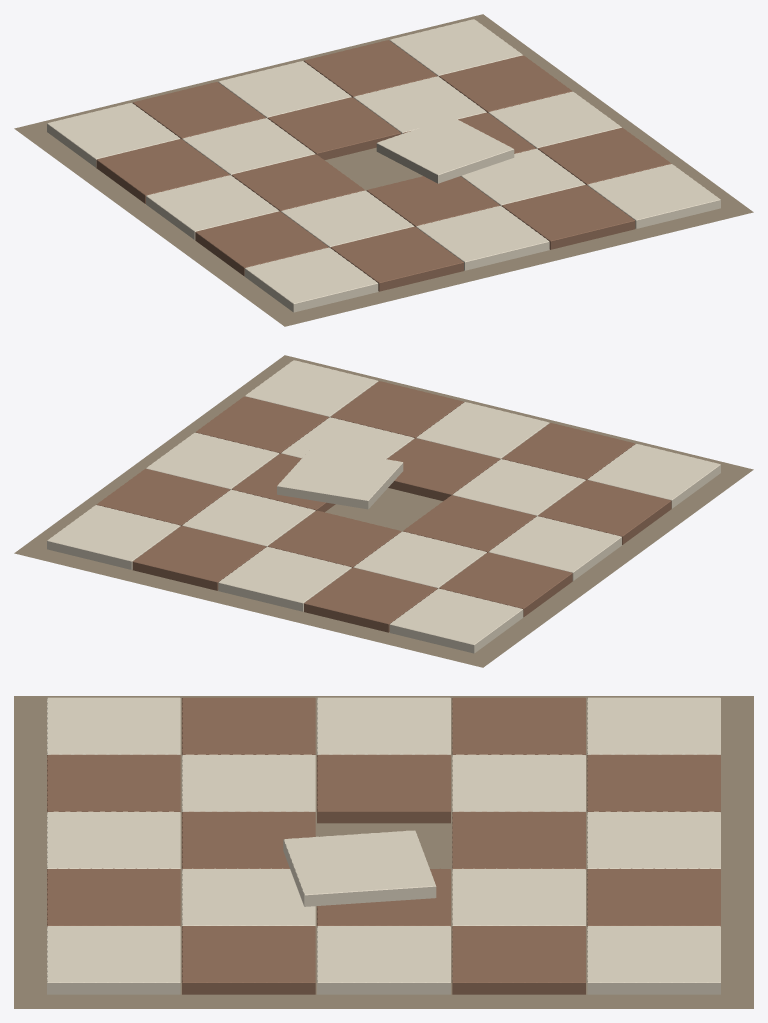
The model's file is terilgan.glb.
3 views of the same model, one above another, from view 1: azimuth 30°, elevation 25°; view 2: azimuth 150°, elevation 25°; view 3: azimuth 270°, elevation 25° (orthographic). The views are drawn at different scales.
Parts seen in each view (by area): view 1: qum, t.012, t, t.015, t.005, t.010, t.020, t.013, t.001, t.002, t.003, t.004 (+14 smaller); view 2: qum, t.004, t.012, t.019, t.009, t.014, t.024, t.002, t.003, t.001, t, t.006 (+14 smaller); view 3: qum, t.012, t.007, t.020, t.021, t.022, t.023, t.024, t, t.001, t.002, t.003 (+14 smaller).
Boxes of the visible parts, box(x1,y1,x2,y2) form: qum: box(14, 14, 753, 326); t.012: box(376, 117, 514, 183); t: box(244, 247, 378, 312); t.015: box(501, 185, 635, 249); t.005: box(330, 226, 463, 291); t.010: box(416, 205, 549, 270); t.020: box(587, 164, 720, 228); t.013: box(267, 97, 401, 159); t.001: box(195, 211, 328, 276); t.002: box(146, 175, 279, 239); t.003: box(96, 139, 229, 203); t.004: box(47, 103, 180, 167); qum: box(14, 355, 753, 667); t.004: box(389, 588, 523, 653); t.012: box(277, 447, 403, 509); t.019: box(132, 526, 266, 590); t.009: box(304, 567, 437, 632); t.014: box(218, 546, 351, 611); t.024: box(47, 505, 180, 569); t.002: box(488, 516, 621, 580); t.003: box(439, 552, 572, 617); t.001: box(538, 480, 671, 544); t: box(587, 444, 720, 508); t.006: box(452, 459, 585, 516); qum: box(14, 696, 753, 1008); t.012: box(283, 830, 436, 906); t.007: box(317, 754, 450, 823); t.020: box(47, 926, 180, 994); t.021: box(182, 926, 315, 994); t.022: box(317, 926, 450, 994); t.023: box(452, 926, 585, 994); t.024: box(587, 926, 720, 994); t: box(47, 697, 180, 754); t.001: box(182, 697, 315, 754); t.002: box(317, 697, 450, 754); t.003: box(452, 697, 585, 754).
Bounding box in the file's own units: 1.66 × 0.062 × 1.66.
